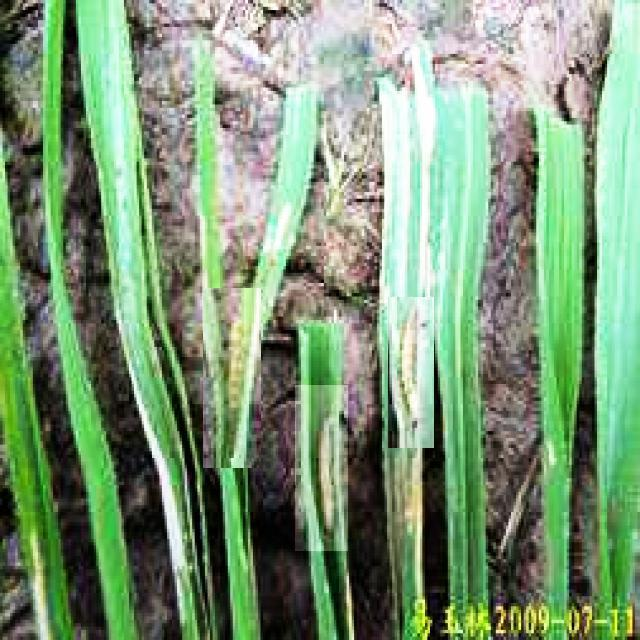leaf-folder: (203, 289, 261, 469), (295, 385, 348, 551), (388, 297, 434, 448)
